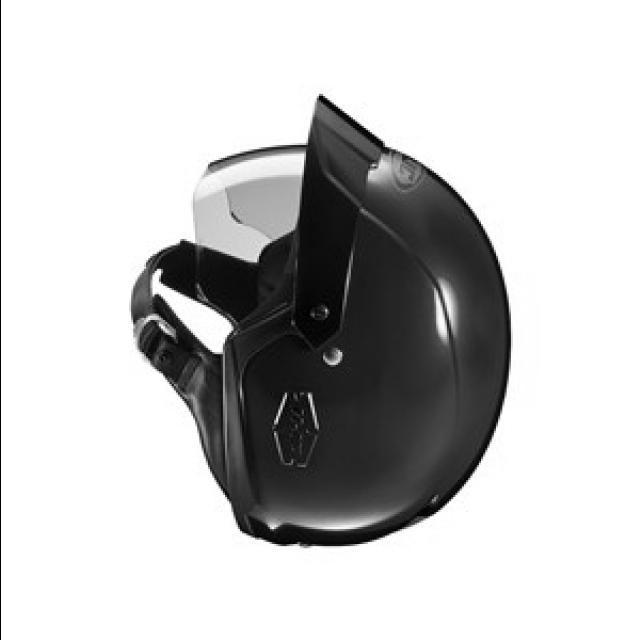safety_helmet: (126, 94, 510, 548)
